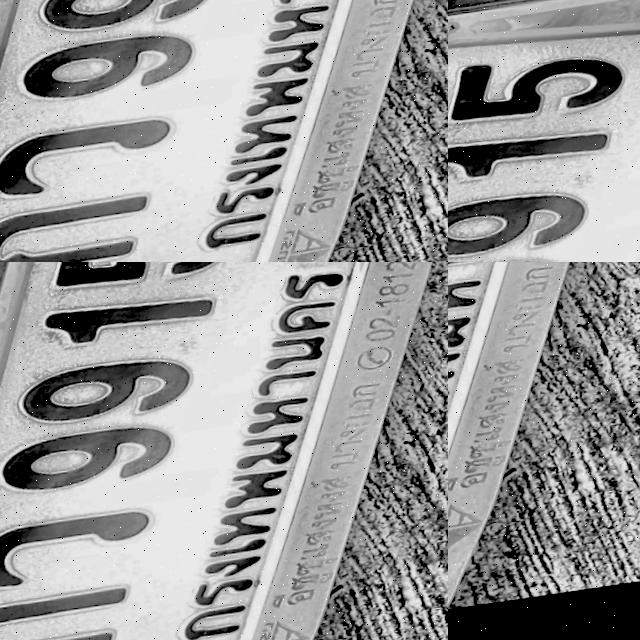license-plate: (448, 262, 640, 640), (448, 0, 640, 262), (367, 320, 448, 370)
